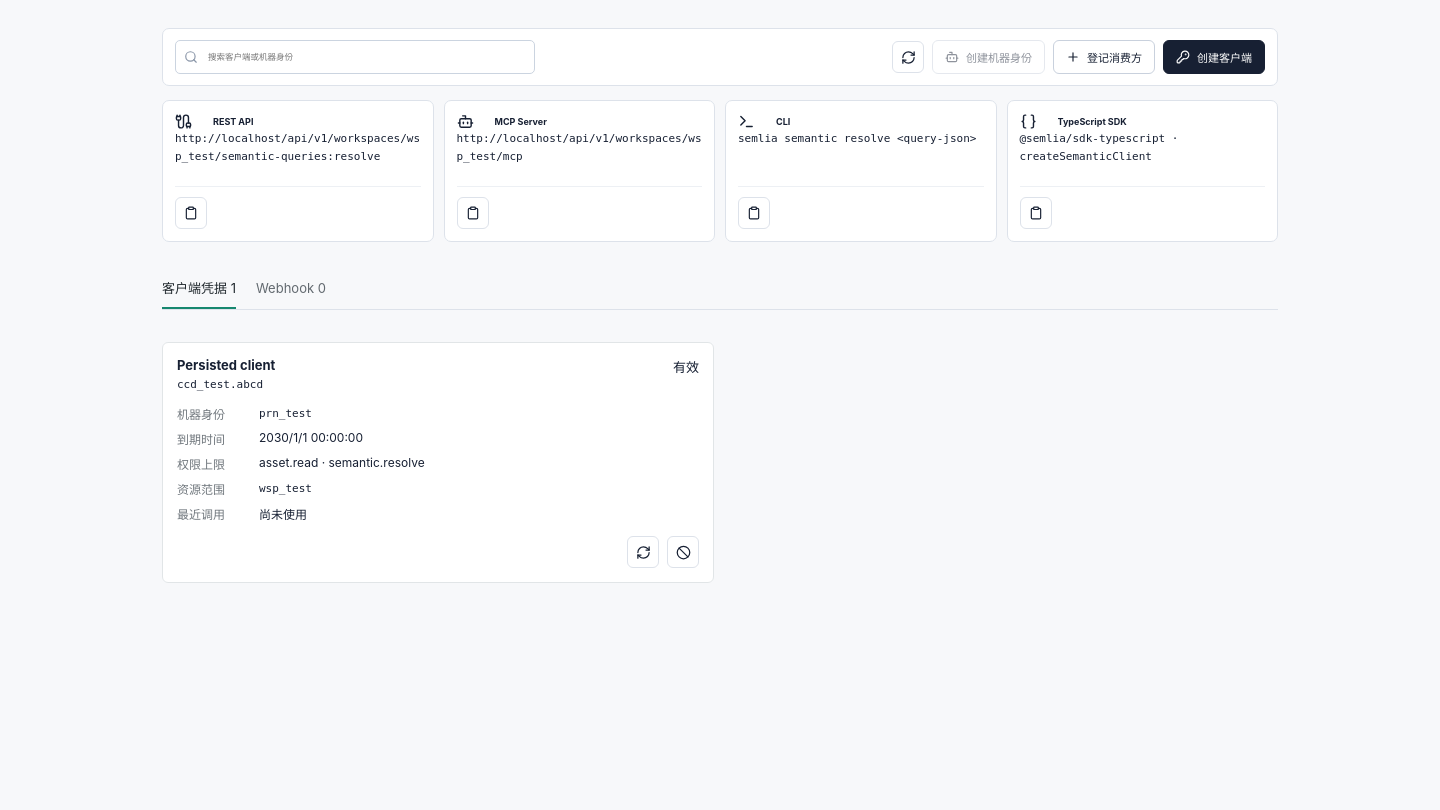
persisted integration settings › shows only the returned secret, reports clipboard failure, and clears on Escape with focus restoration
Click the button named "轮换 Persisted client 的凭据" at (643, 552), box [627,536,659,568]
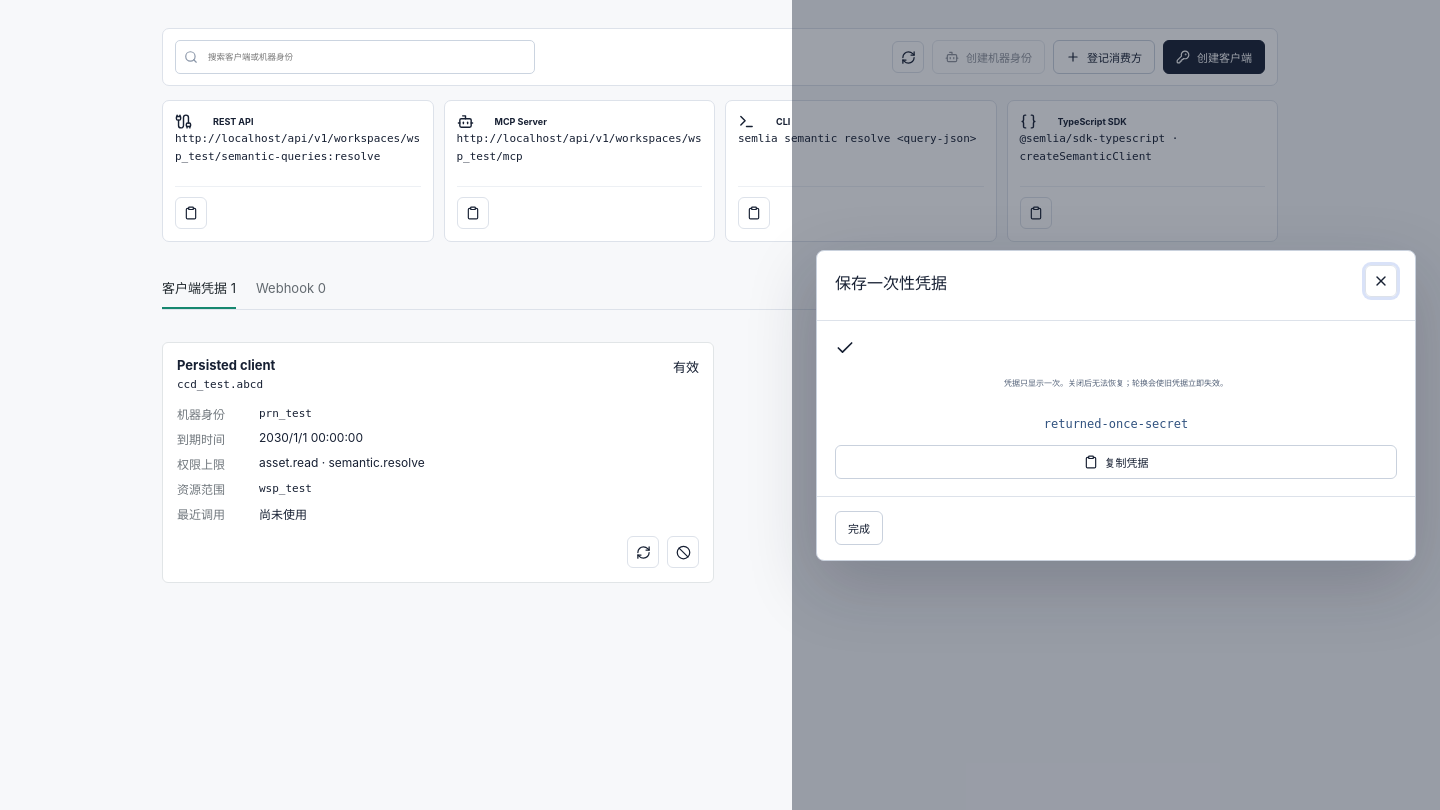
Expected: the dialog "保存一次性凭据" shows "returned-once-secret", [1044,416,1188,430]
Click the button "复制凭据" at (1116, 462), box [835,444,1397,478]
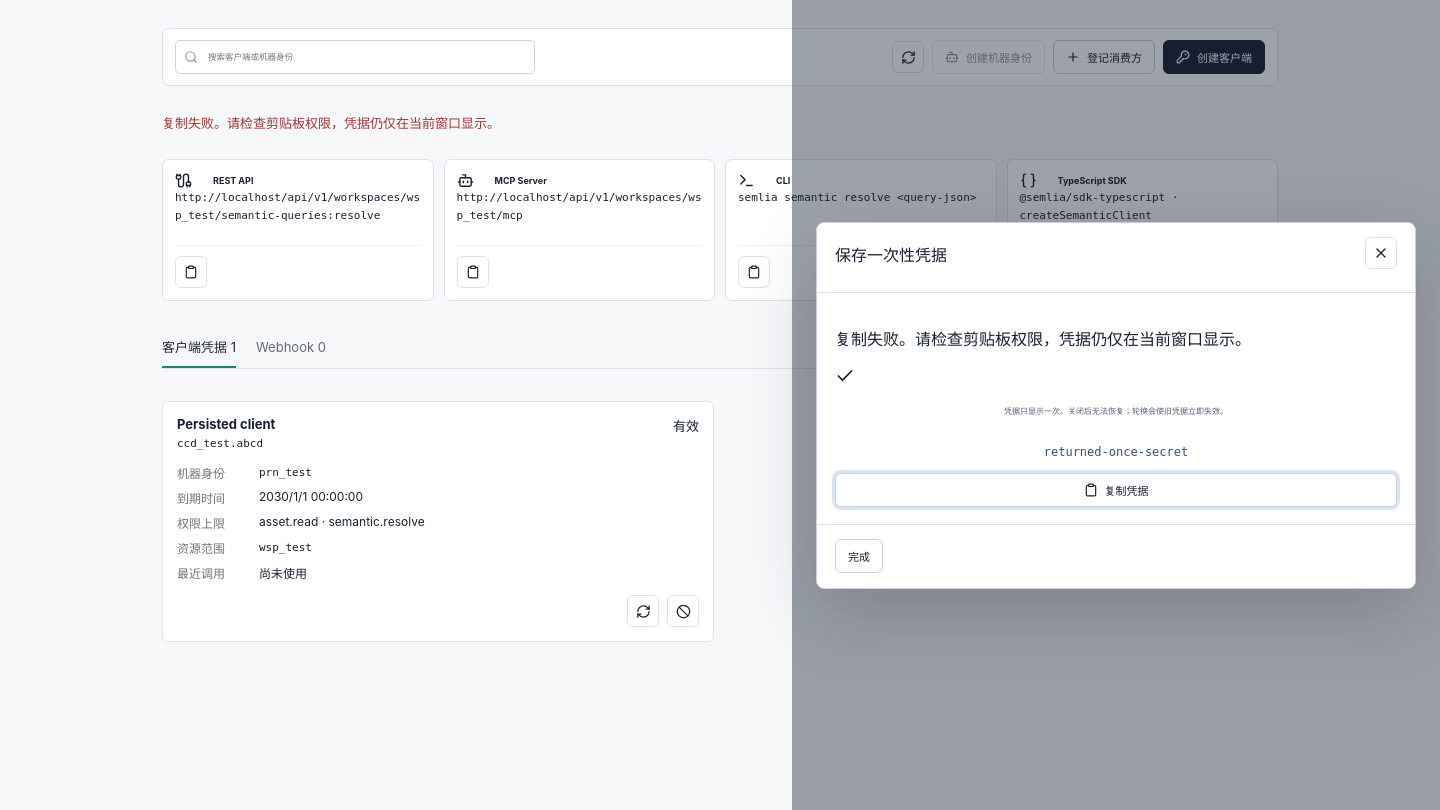
Expected: the message "复制失败。请检查剪贴板权限，凭据仍仅在当前窗口显示。" below "保存一次性凭据" is shown, [835,328,1251,348]
Press Escape
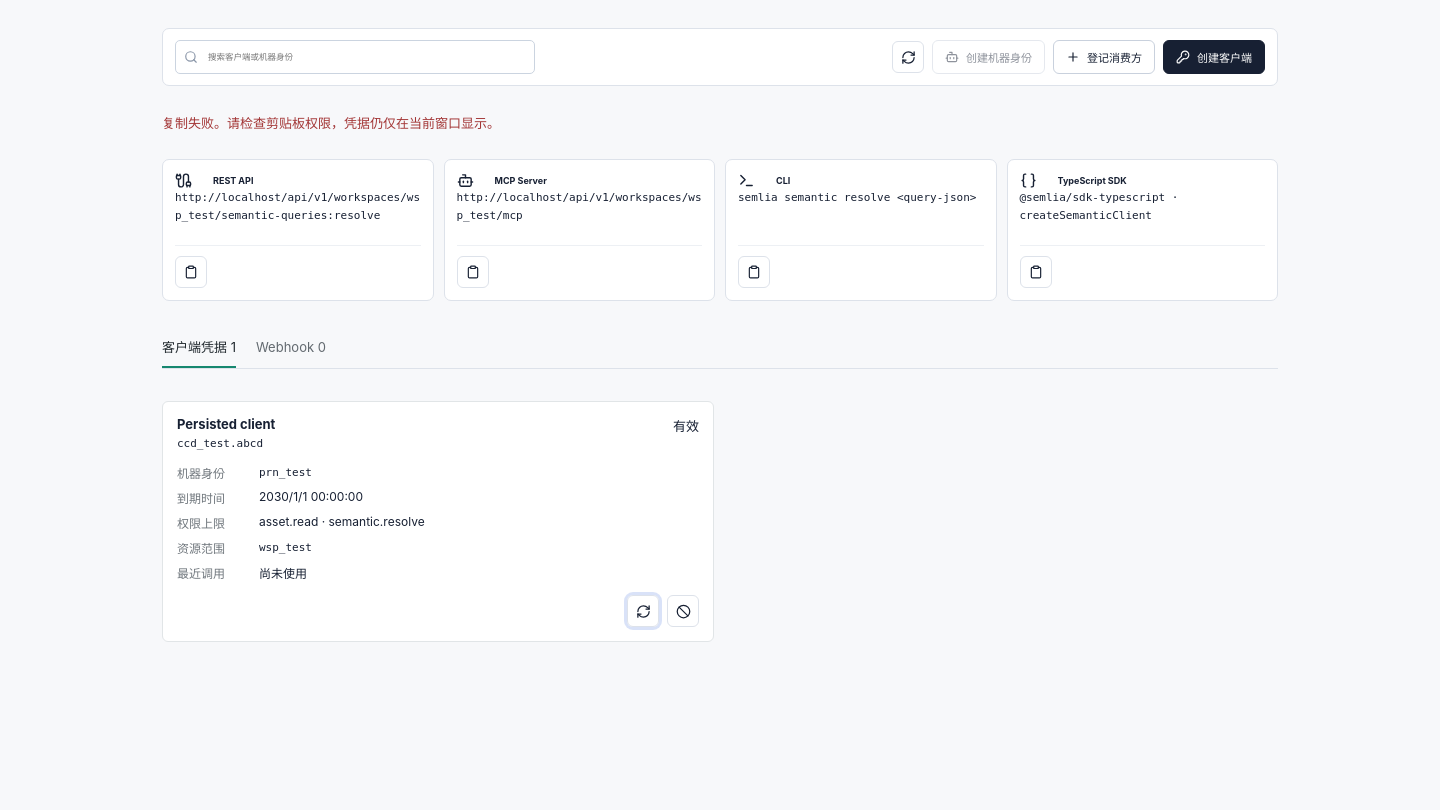
Expected: the text "returned-once-secret" is gone
